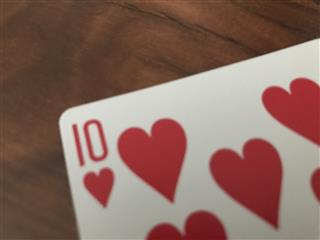TenOfHearts: (57, 37, 320, 240)
